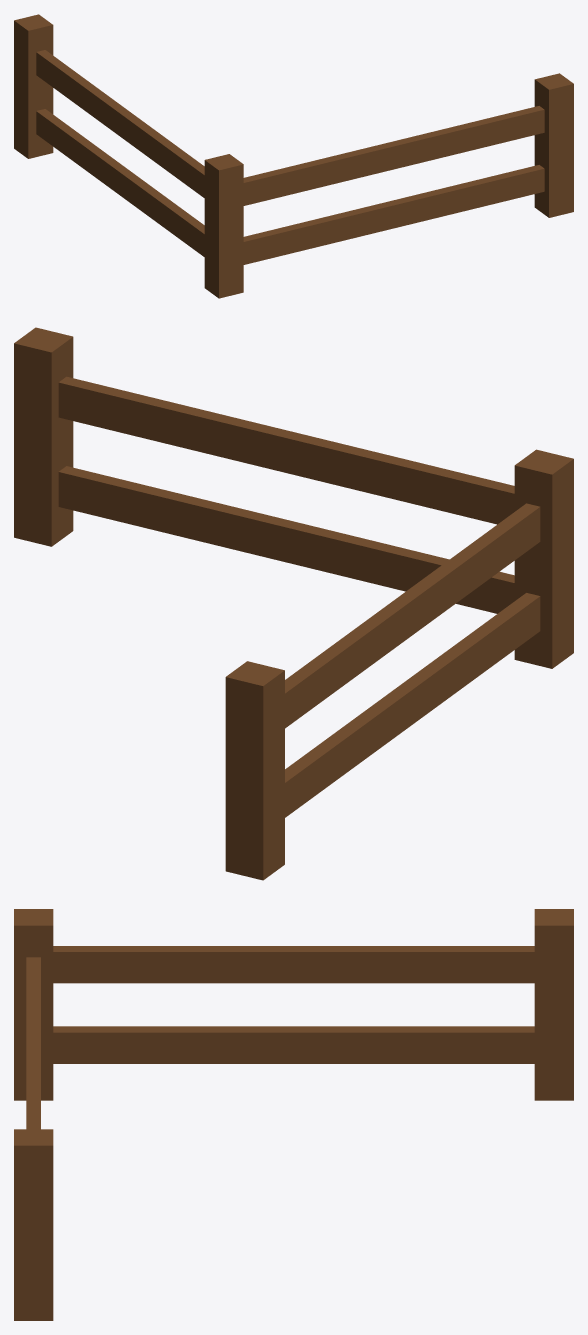
File: kenney_nature-kit__fence_corner__meadow.fbx
3 renders of one model, top to bottom at view 1: azimuth 30°, elevation 25°; view 2: azimuth 150°, elevation 25°; view 3: azimuth 270°, elevation 25°, orthographic. The views are drawn at different scales.
Visible parts, largest first — view 1: kenney_nature-kit__fence_corner__meadow_wooddark_wood, kenney_nature-kit__fence_corner__meadow_wood_wood; view 2: kenney_nature-kit__fence_corner__meadow_wooddark_wood, kenney_nature-kit__fence_corner__meadow_wood_wood; view 3: kenney_nature-kit__fence_corner__meadow_wooddark_wood, kenney_nature-kit__fence_corner__meadow_wood_wood.
Part boxes in pixels (bbox=[...]): kenney_nature-kit__fence_corner__meadow_wooddark_wood: bbox=[36, 52, 544, 264]; kenney_nature-kit__fence_corner__meadow_wood_wood: bbox=[14, 14, 573, 298]; kenney_nature-kit__fence_corner__meadow_wooddark_wood: bbox=[58, 382, 540, 817]; kenney_nature-kit__fence_corner__meadow_wood_wood: bbox=[14, 327, 573, 880]; kenney_nature-kit__fence_corner__meadow_wooddark_wood: bbox=[53, 952, 534, 1063]; kenney_nature-kit__fence_corner__meadow_wood_wood: bbox=[14, 909, 573, 1320].
Size of the model in its own units: 3.57 by 1.23 by 3.57.
Materials: 1 (1 with a texture image).
